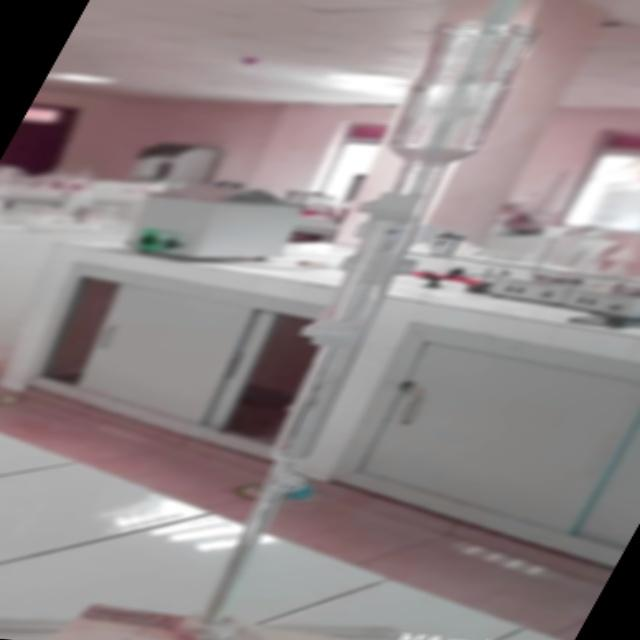Column Chromatography: (80, 15, 608, 640)
